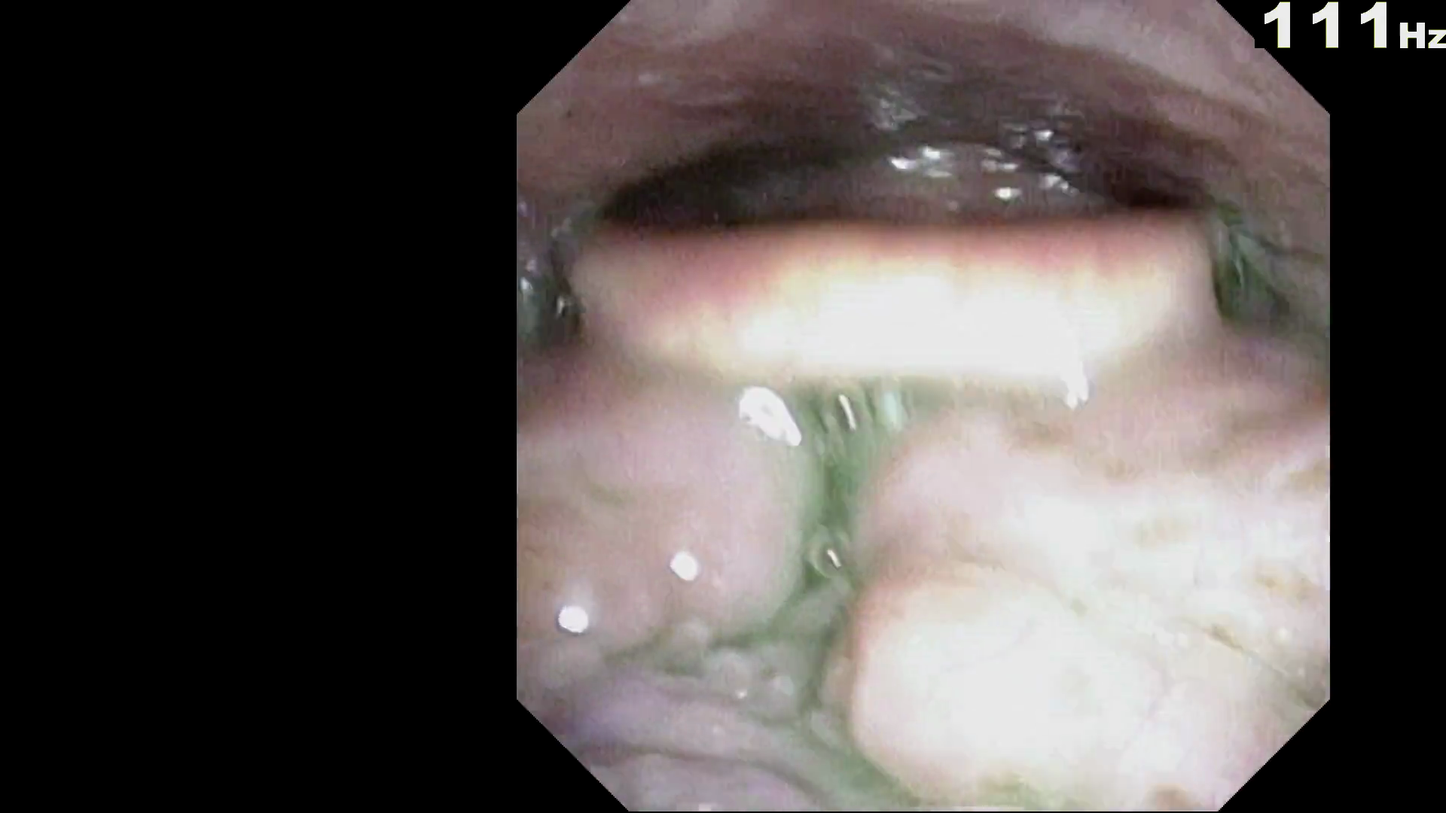epiglottis: (542, 198, 1270, 438)
